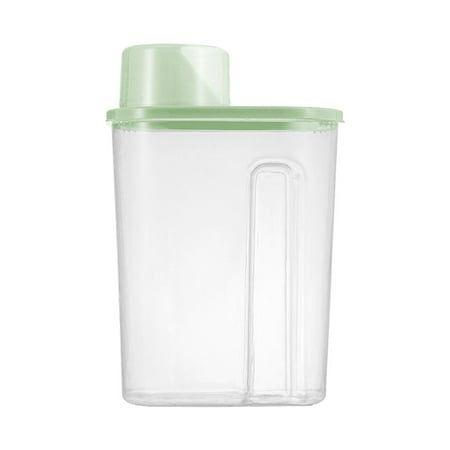PP: (107, 43, 344, 409)
